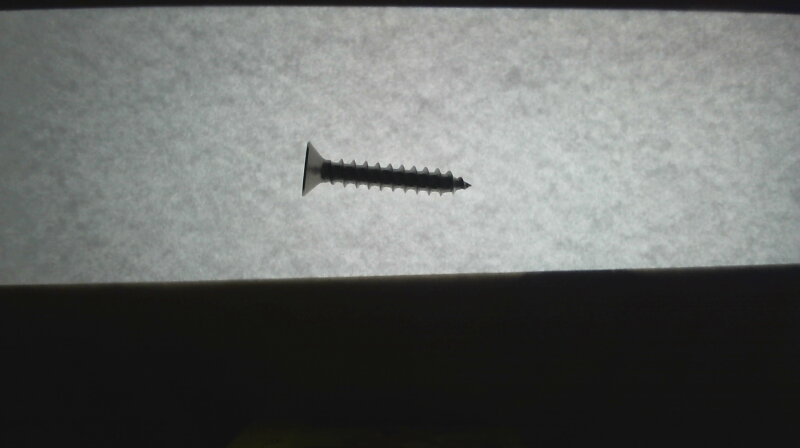S001: (298, 138, 476, 201)
